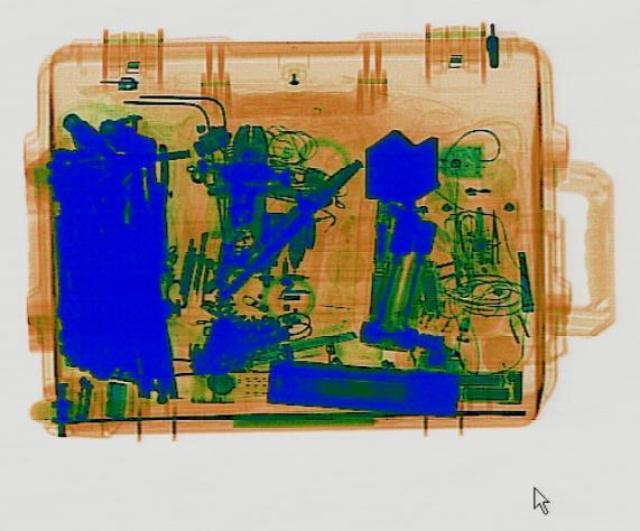Pliers: (190, 149, 372, 304), (217, 124, 271, 303)
